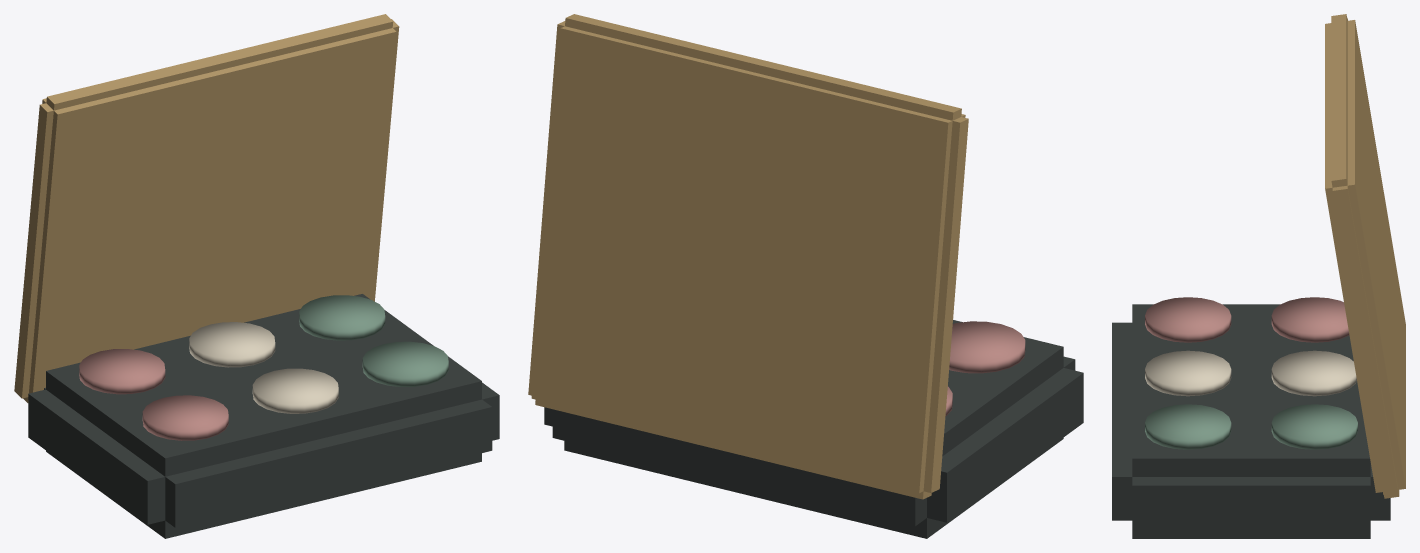
The model's file is sku_v23_palette.glb.
3 renders of one model, left to right at view 1: azimuth 30°, elevation 25°; view 2: azimuth 150°, elevation 25°; view 3: azimuth 270°, elevation 25°, orthographic. The views are drawn at different scales.
Visible parts, largest first — view 1: sku_v23_palette_V23_satin_brass, sku_v23_palette_V23_ceramic_graphite, sku_v23_palette_V23_natural_canvas, sku_v23_palette_V23_mineral_rose, sku_v23_palette_V23_soft_sage; view 2: sku_v23_palette_V23_satin_brass, sku_v23_palette_V23_ceramic_graphite, sku_v23_palette_V23_mineral_rose; view 3: sku_v23_palette_V23_ceramic_graphite, sku_v23_palette_V23_satin_brass, sku_v23_palette_V23_soft_sage, sku_v23_palette_V23_natural_canvas, sku_v23_palette_V23_mineral_rose.
Boxes of the visible parts, left/top/right/bottom form: sku_v23_palette_V23_satin_brass: left=14, top=14, right=399, bottom=402; sku_v23_palette_V23_ceramic_graphite: left=28, top=294, right=499, bottom=538; sku_v23_palette_V23_natural_canvas: left=189, top=322, right=338, bottom=413; sku_v23_palette_V23_mineral_rose: left=79, top=349, right=228, bottom=440; sku_v23_palette_V23_soft_sage: left=299, top=295, right=448, bottom=386; sku_v23_palette_V23_satin_brass: left=528, top=14, right=968, bottom=499; sku_v23_palette_V23_ceramic_graphite: left=544, top=320, right=1083, bottom=538; sku_v23_palette_V23_mineral_rose: left=945, top=321, right=1025, bottom=416; sku_v23_palette_V23_ceramic_graphite: left=1112, top=304, right=1390, bottom=538; sku_v23_palette_V23_satin_brass: left=1325, top=14, right=1405, bottom=498; sku_v23_palette_V23_soft_sage: left=1145, top=404, right=1357, bottom=449; sku_v23_palette_V23_natural_canvas: left=1145, top=350, right=1356, bottom=396; sku_v23_palette_V23_mineral_rose: left=1145, top=297, right=1349, bottom=342.
Size of the model in its own units: 0.16 by 0.1592 by 0.1159.
